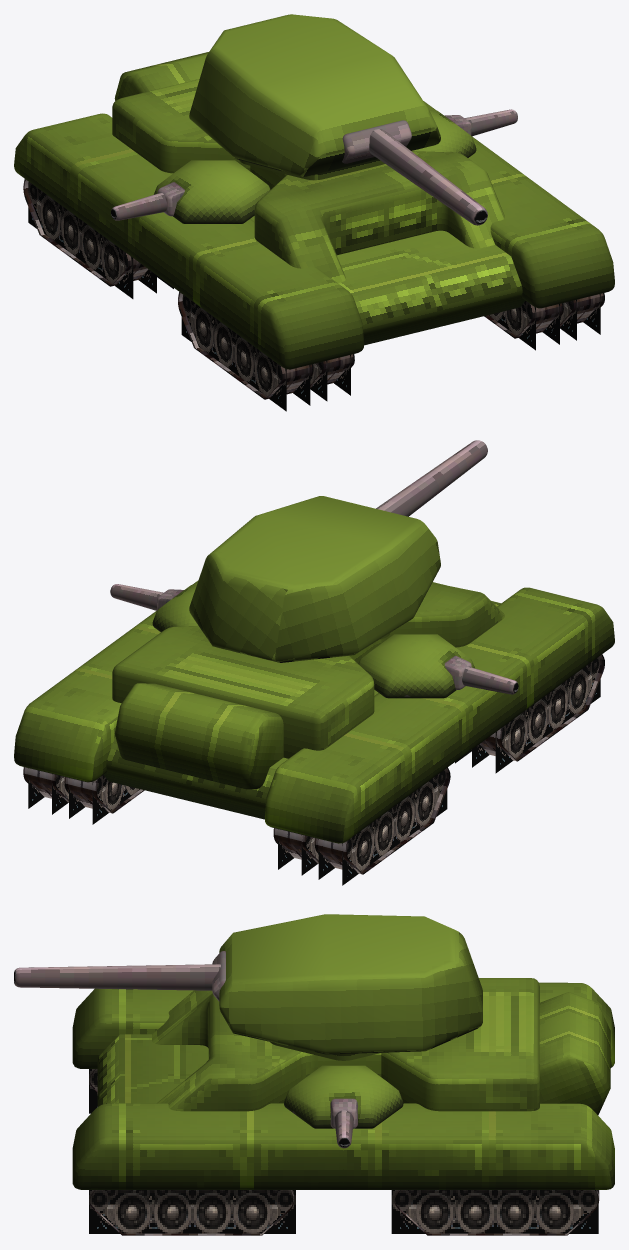
The model's file is heavy_tank.glb.
The picture shows the model from 3 angles, top to bottom: view 1: azimuth 30°, elevation 25°; view 2: azimuth 150°, elevation 25°; view 3: azimuth 270°, elevation 25°; orthographic projection.
Parts seen in each view (by area): view 1: Hull, Turret, Wheels_R, MiniTurret_B, Barrel, Track_R, MiniTurret_A, Wheels_L, Track_L; view 2: Hull, Turret, Wheels_R, MiniTurret_B, Track_R, Barrel, MiniTurret_A, Wheels_L, Track_L; view 3: Hull, Turret, Wheels_L, MiniTurret_A, Barrel, Track_L.
Part boxes in pixels (x1=…): Hull: x1=14, y1=52, x2=614, y2=369; Turret: x1=189, y1=14, x2=440, y2=180; Wheels_R: x1=28, y1=182, x2=350, y2=411; MiniTurret_B: x1=111, y1=160, x2=270, y2=223; Barrel: x1=369, y1=129, x2=487, y2=225; Track_R: x1=23, y1=179, x2=354, y2=399; MiniTurret_A: x1=412, y1=109, x2=517, y2=157; Wheels_L: x1=488, y1=294, x2=600, y2=350; Track_L: x1=484, y1=293, x2=604, y2=338; Hull: x1=14, y1=580, x2=614, y2=843; Turret: x1=189, y1=496, x2=440, y2=662; Wheels_R: x1=278, y1=656, x2=600, y2=885; MiniTurret_B: x1=358, y1=634, x2=518, y2=698; Track_R: x1=273, y1=654, x2=604, y2=874; Barrel: x1=376, y1=440, x2=487, y2=516; MiniTurret_A: x1=110, y1=584, x2=198, y2=631; Wheels_L: x1=28, y1=768, x2=140, y2=824; Track_L: x1=23, y1=767, x2=144, y2=813; Hull: x1=72, y1=978, x2=614, y2=1189; Turret: x1=212, y1=914, x2=482, y2=1060; Wheels_L: x1=89, y1=1190, x2=598, y2=1233; MiniTurret_A: x1=284, y1=1065, x2=403, y2=1148; Barrel: x1=14, y1=964, x2=220, y2=990; Track_L: x1=89, y1=1190, x2=599, y2=1235.
Bounding box in the file's own units: 3.06 × 1.56 × 3.99.
Materials: 5 (5 with a texture image).
